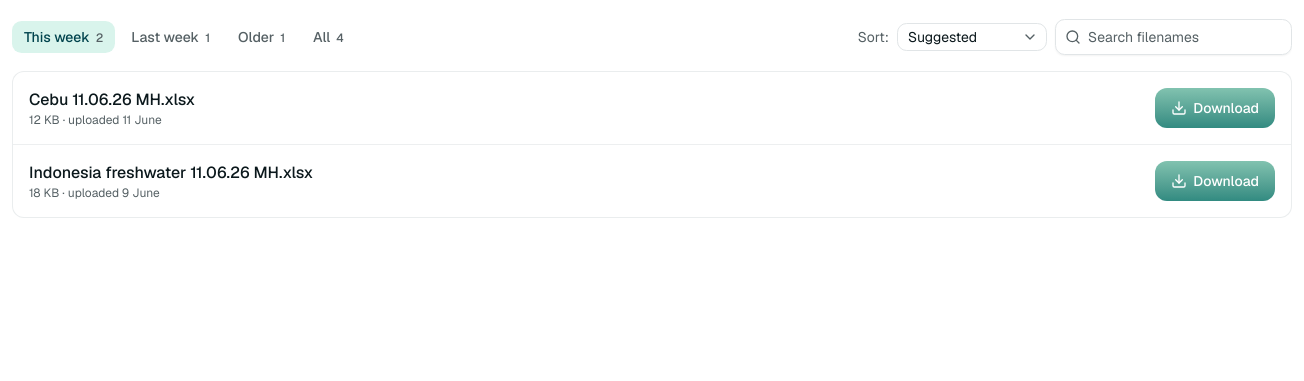
Test: <StocklistFileList /> › filename search filters within the active tab
Click the button "All4" at (328, 37), box [301,21,356,53]
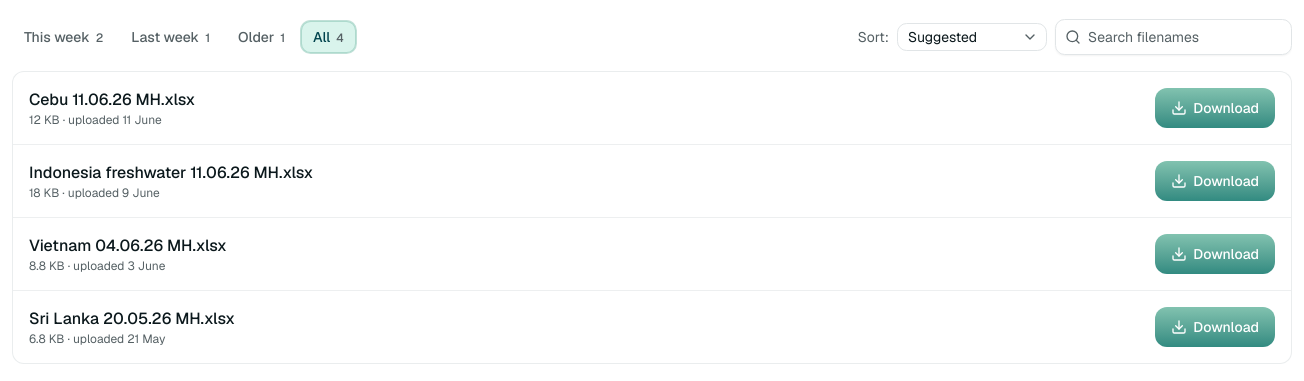
Type "indonesia" into the search field with placeholder "Search filenames" at (1174, 37), box [1055,19,1292,55]
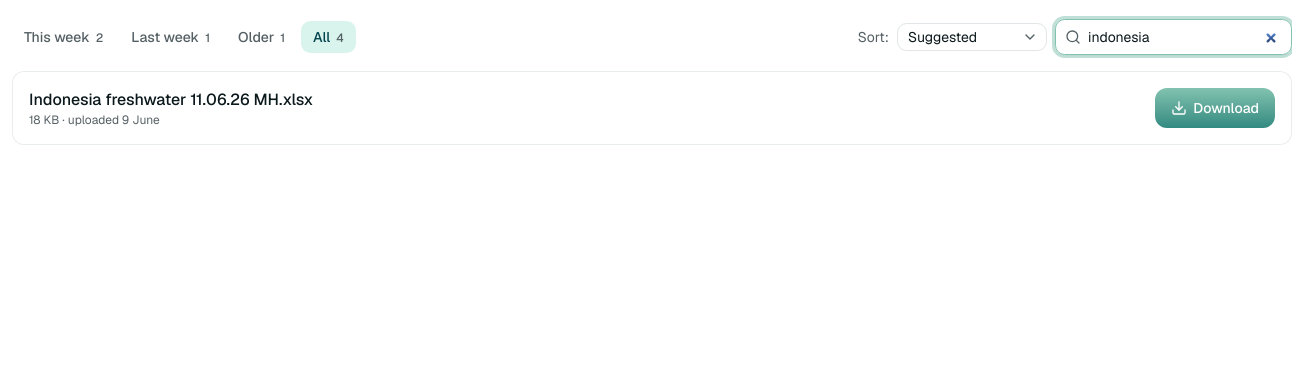
Expected: the text "Indonesia freshwater 11.06.26 MH.xlsx" is shown, [29,88,313,112]
Expected: the text "Cebu 11.06.26 MH.xlsx" is gone
Expected: the text "Vietnam 04.06.26 MH.xlsx" is gone
